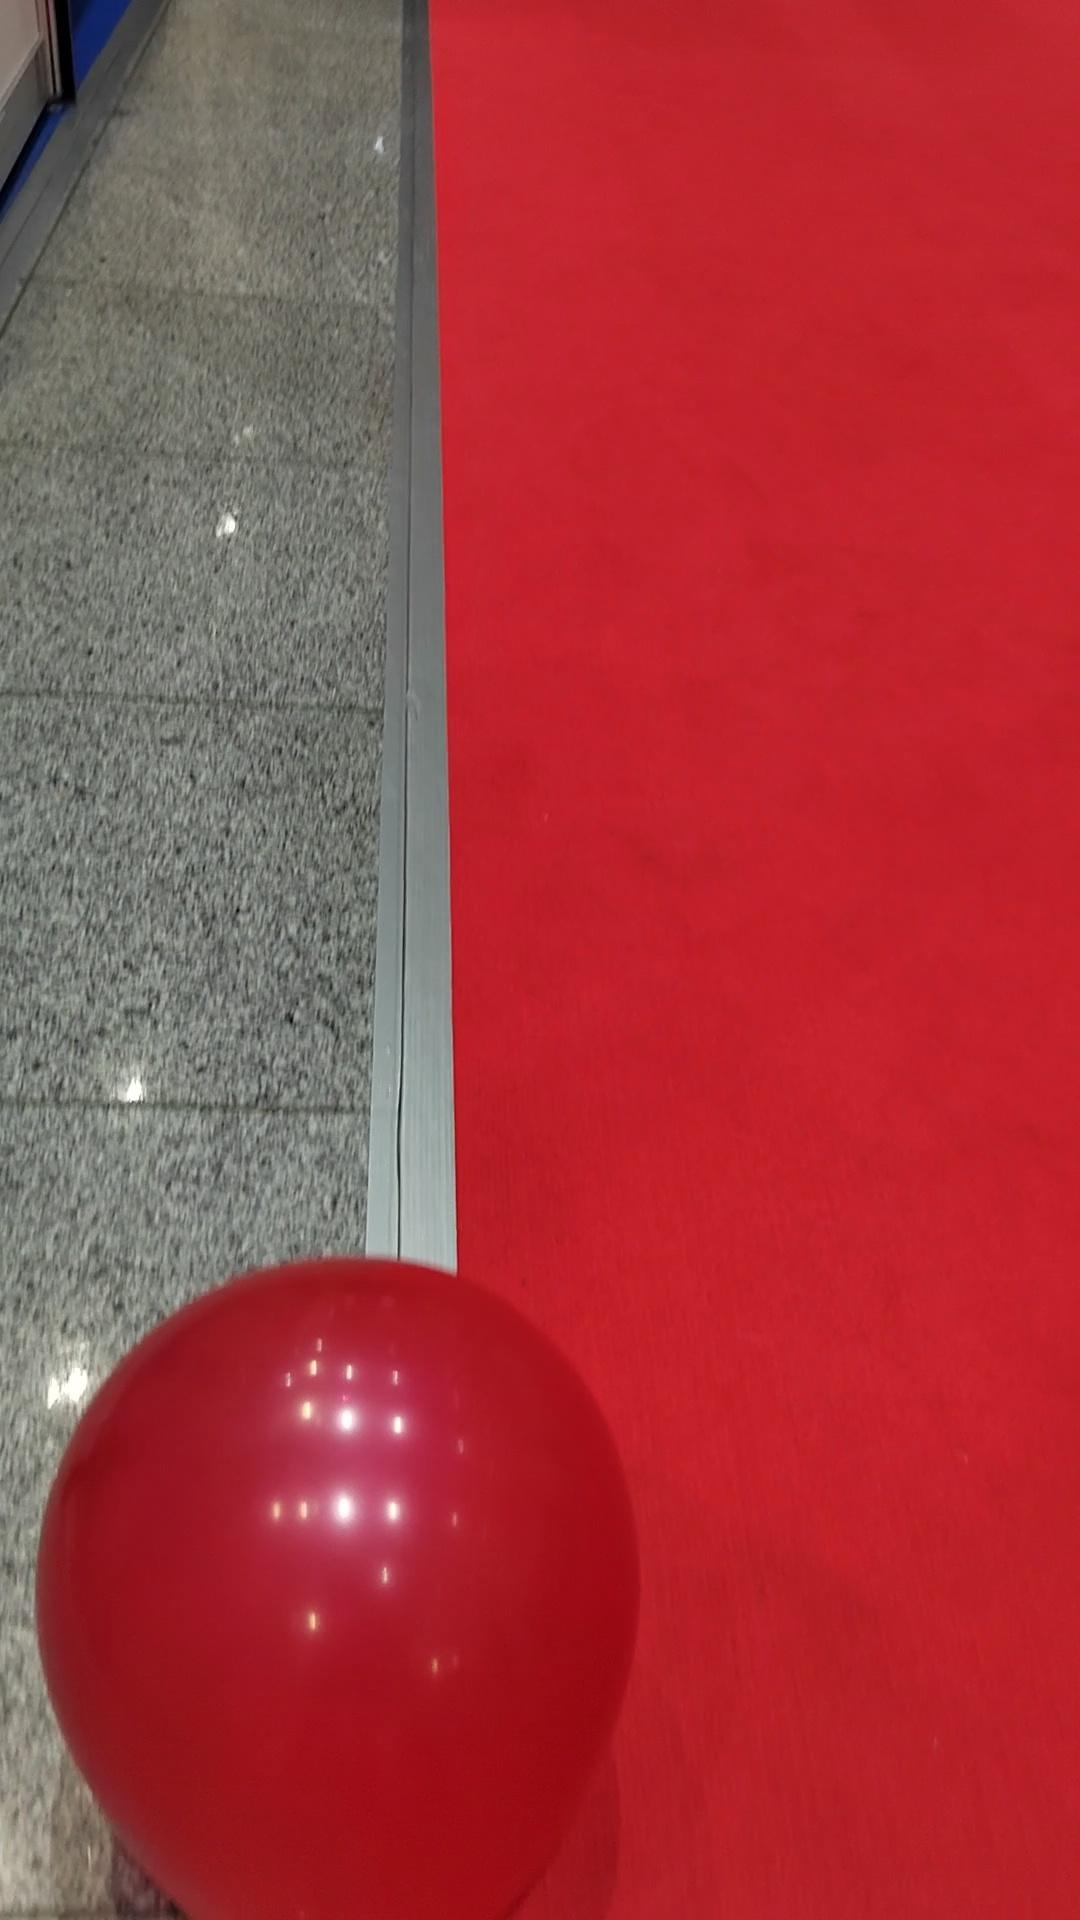red: (24, 1249, 650, 1915)
